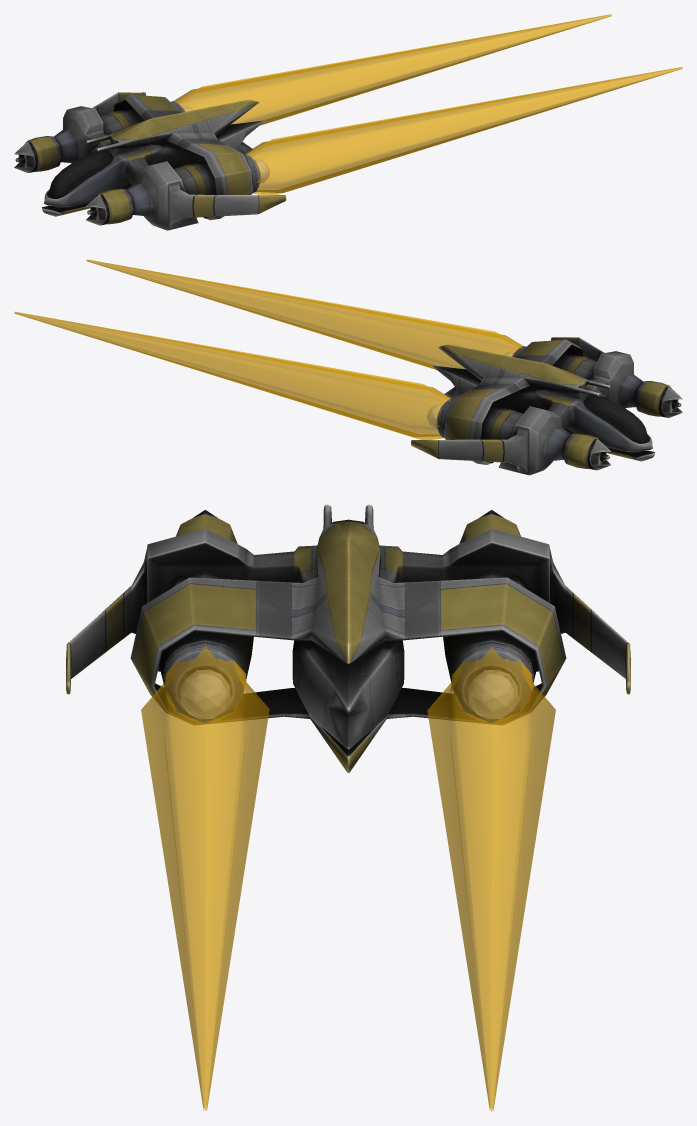
The model's file is StarFighter2.fbx.
3 views of the same model, one above another, from view 1: azimuth 30°, elevation 25°; view 2: azimuth 150°, elevation 25°; view 3: azimuth 270°, elevation 25° (orthographic). The views are drawn at different scales.
Visible parts, largest first — view 1: Star_Fighter; view 2: Star_Fighter; view 3: Star_Fighter, Icosphere_001, Icosphere.
Part boxes in pixels (bbox=[...]): Star_Fighter: bbox=[14, 14, 682, 230]; Star_Fighter: bbox=[14, 259, 682, 475]; Star_Fighter: bbox=[66, 504, 630, 1111]; Icosphere_001: bbox=[468, 670, 518, 719]; Icosphere: bbox=[180, 670, 230, 719].
Size of the model in its own units: 33.5 by 4.08 by 13.57.
Materials: 4 (1 with a texture image).
